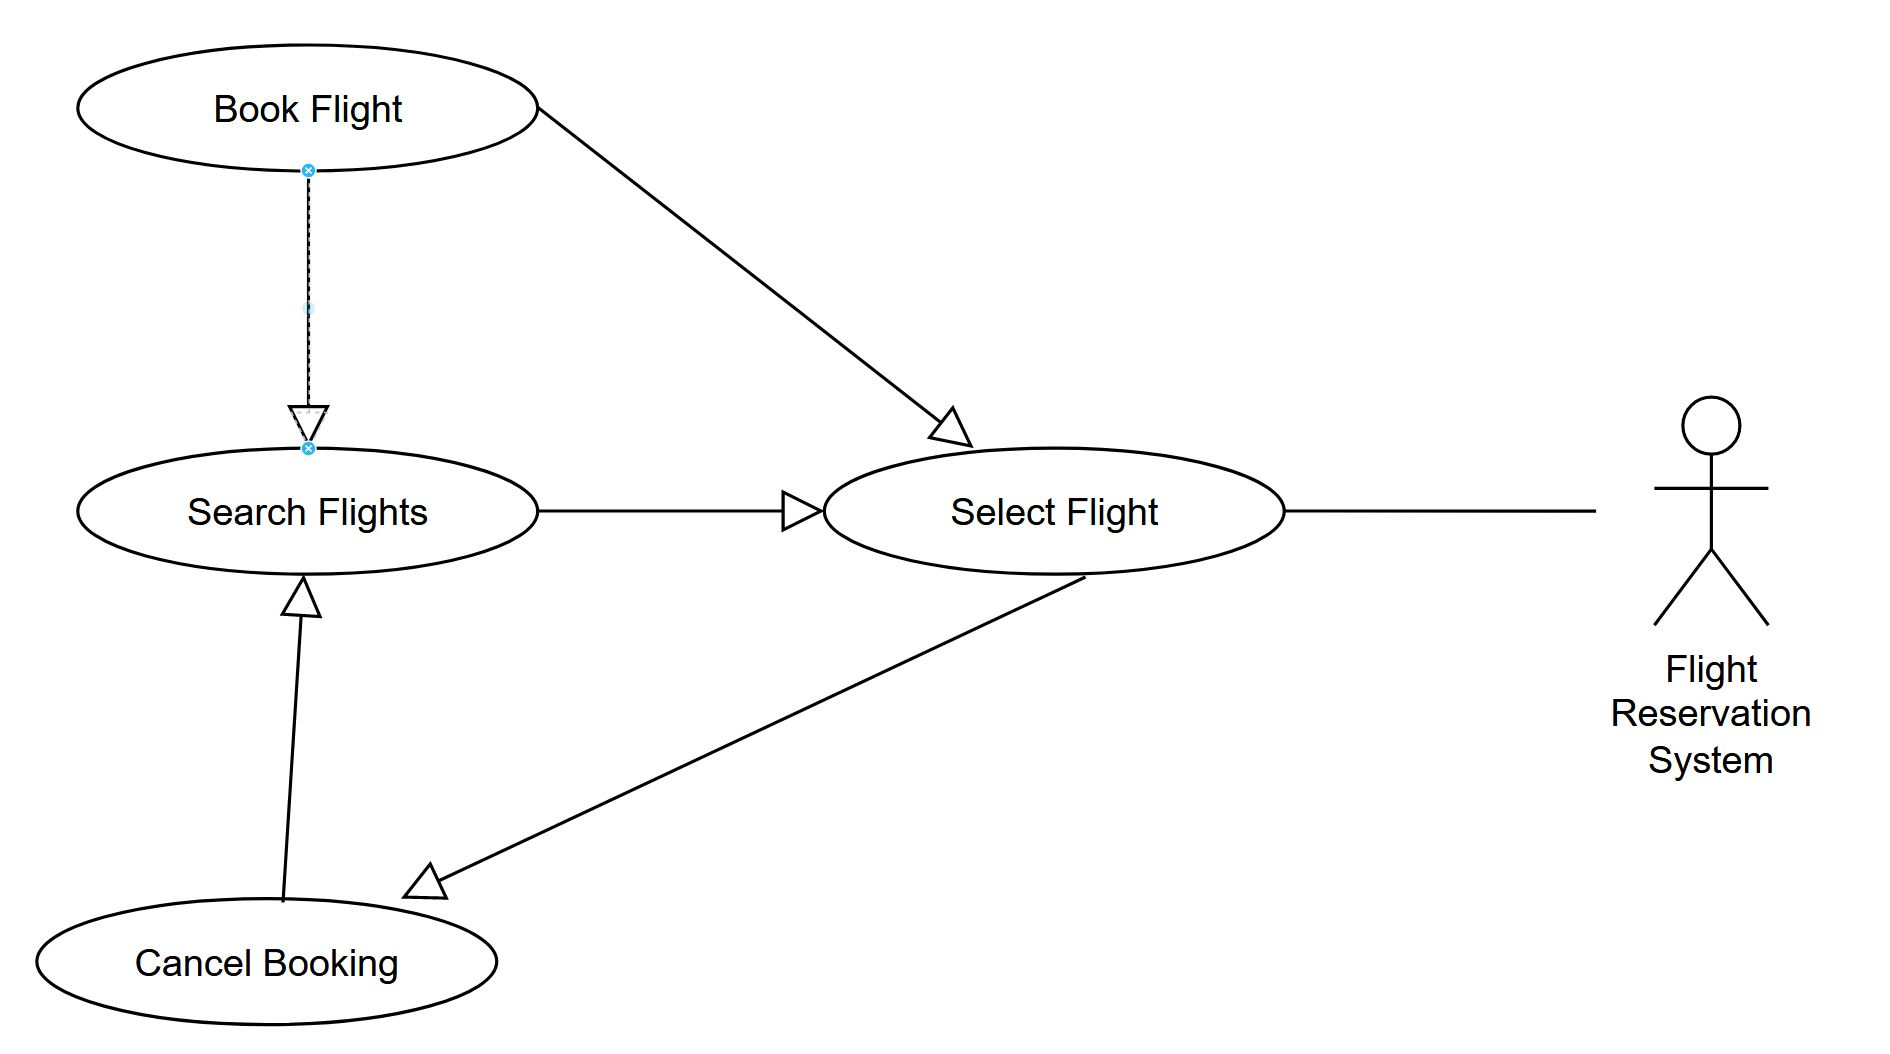actor: (1642, 396, 1773, 635)
association: (1288, 485, 1601, 537)
generalization: (400, 575, 1083, 906), (543, 108, 981, 450), (273, 576, 326, 898), (537, 488, 823, 537), (283, 177, 335, 444)
text: (1597, 648, 1812, 785), (129, 938, 411, 999), (183, 485, 437, 539), (210, 80, 409, 132), (948, 489, 1163, 536)
use_case: (34, 894, 498, 1031), (75, 42, 539, 173), (823, 447, 1285, 578), (74, 448, 539, 578)
